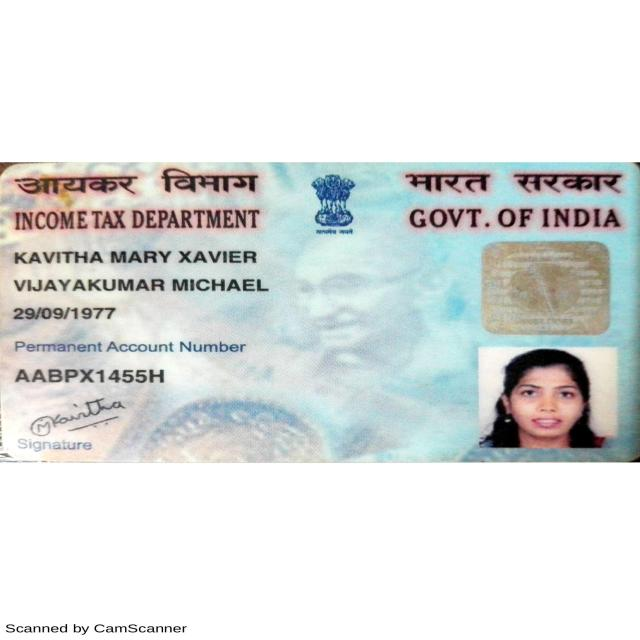pan_card: (0, 162, 640, 460)
